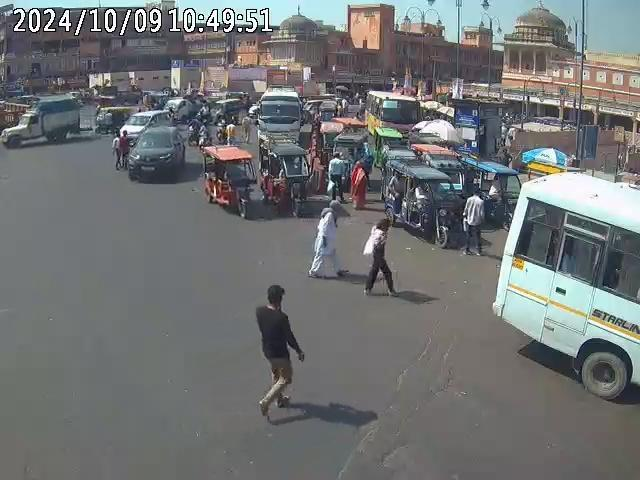auto: (383, 159, 463, 243), (201, 142, 262, 219), (462, 156, 522, 227), (262, 137, 312, 217), (94, 105, 138, 135)
bus: (493, 170, 639, 405), (258, 86, 302, 144)
car: (125, 124, 186, 182)
lorry: (0, 94, 81, 151)
person: (252, 285, 305, 423), (308, 195, 348, 279), (360, 213, 394, 297), (460, 189, 485, 255), (326, 149, 348, 200), (350, 159, 370, 212), (111, 128, 128, 169)
